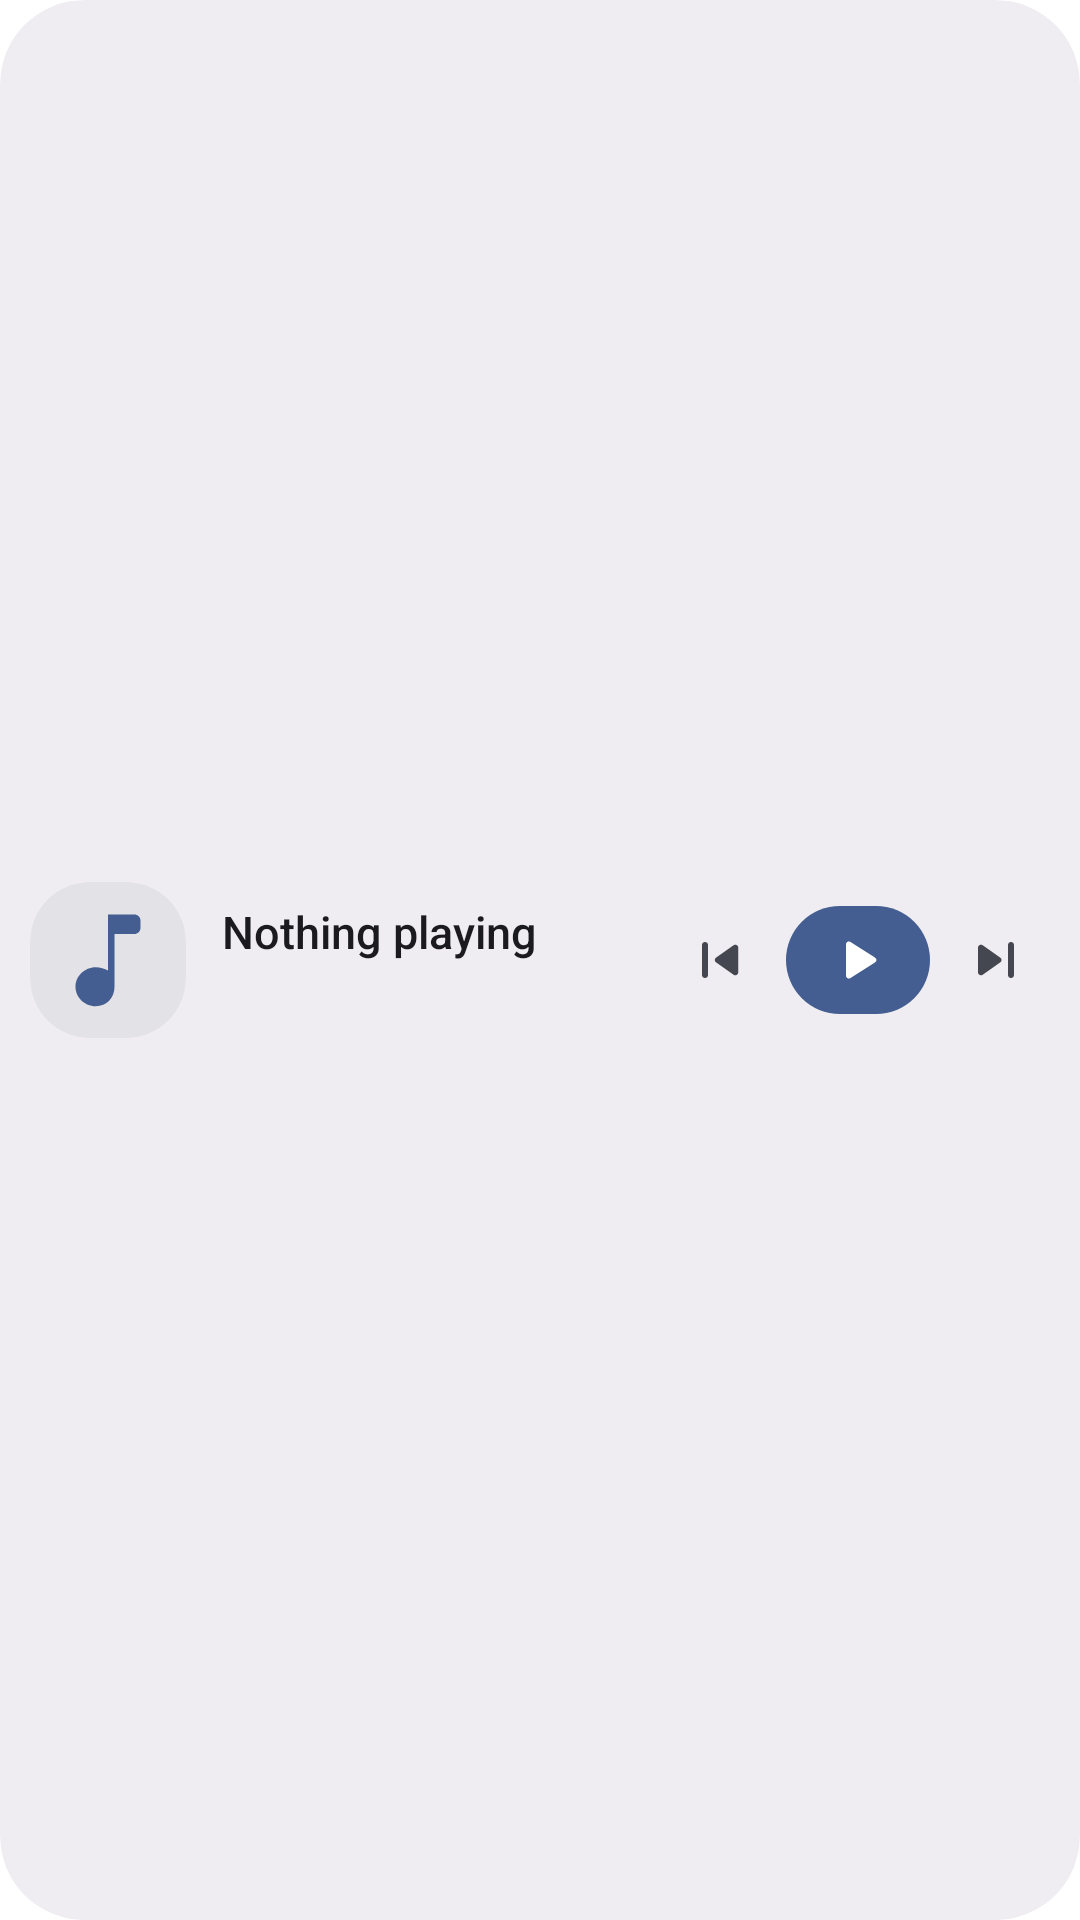

Icon click points for this 1080 x 1920 phone screenshot, format point (x, y):
Next: point (996, 960)
Previous: point (720, 960)
widget note: point (108, 960)
